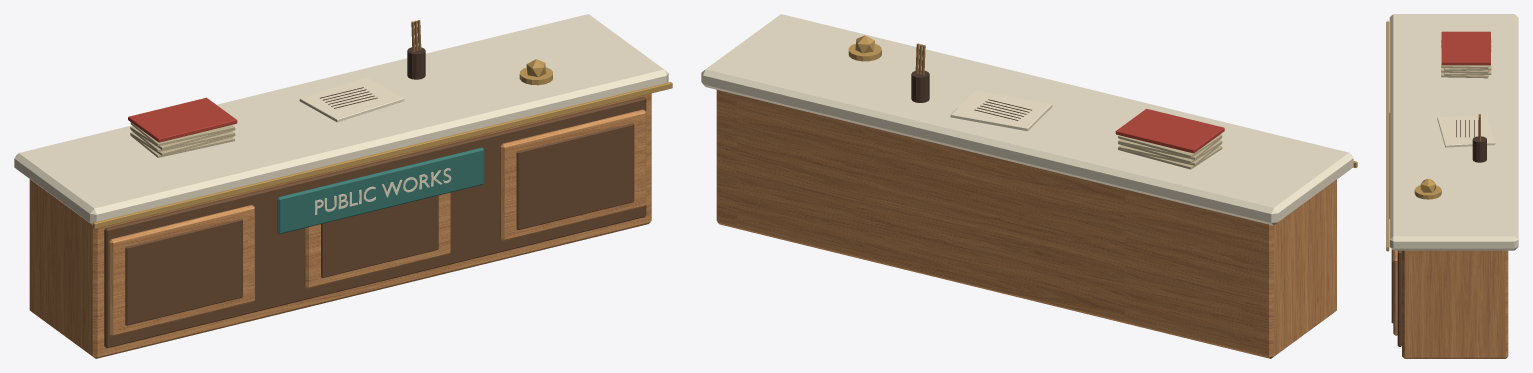
3 views of the same model, side by side, from view 1: azimuth 30°, elevation 25°; view 2: azimuth 150°, elevation 25°; view 3: azimuth 270°, elevation 25° (orthographic). The views are drawn at different scales.
Parts seen in each view (by area): view 1: square_wood_dark, square_limestone_pale, square_oak, square_teal, square_brass, square_red, square_paper, square_pages, square_enamel_cream, square_ink; view 2: square_oak, square_limestone_pale, square_red, square_paper, square_pages, square_ink, square_brass; view 3: square_limestone_pale, square_oak, square_red, square_paper, square_brass, square_wood_dark, square_pages, square_ink.
Part boxes in pixels (box(x1,y1,x2,y2)): square_wood_dark: box(104, 97, 646, 348); square_limestone_pale: box(14, 14, 668, 224); square_oak: box(29, 93, 651, 358); square_teal: box(277, 147, 484, 234); square_brass: box(93, 59, 672, 228); square_red: box(128, 97, 237, 142); square_paper: box(299, 77, 404, 122); square_pages: box(130, 122, 235, 157); square_enamel_cream: box(315, 168, 451, 214); square_ink: box(320, 47, 425, 108); square_oak: box(716, 90, 1336, 358); square_limestone_pale: box(701, 14, 1353, 225); square_red: box(1115, 108, 1224, 153); square_paper: box(950, 90, 1052, 131); square_pages: box(1118, 134, 1222, 169); square_ink: box(911, 70, 1031, 120); square_brass: box(848, 35, 1357, 167); square_limestone_pale: box(1389, 14, 1518, 250); square_oak: box(1393, 250, 1508, 358); square_red: box(1441, 31, 1490, 65); square_paper: box(1437, 114, 1495, 147); square_brass: box(1386, 21, 1441, 251); square_wood_dark: box(1391, 249, 1401, 346); square_pages: box(1441, 38, 1491, 78); square_ink: box(1456, 120, 1486, 162).
Size of the model in its own units: 4.76 by 1.68 by 1.18.
Materials: 11 (1 with a texture image).
